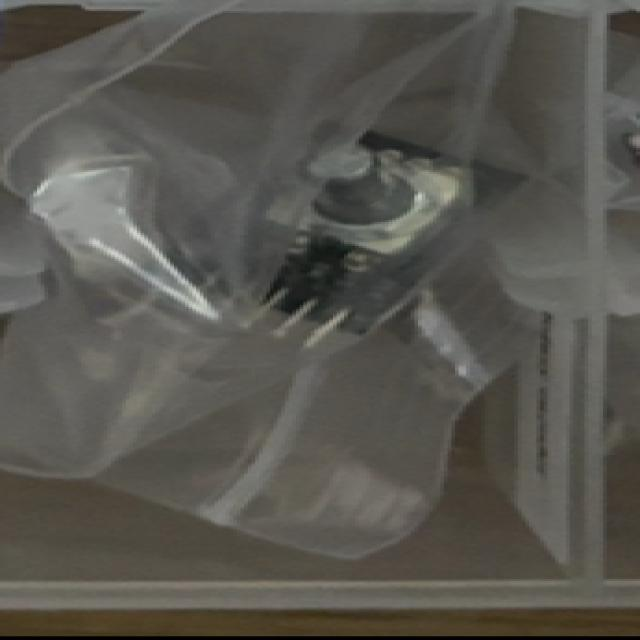Rotary Encoder: (170, 120, 528, 336)
